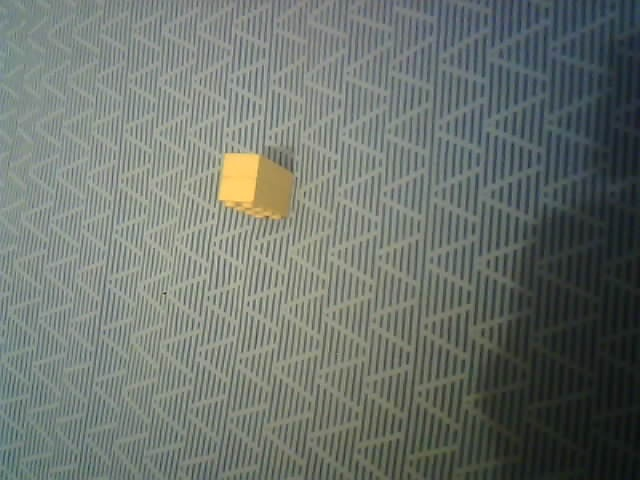lego: (216, 152, 296, 219)
